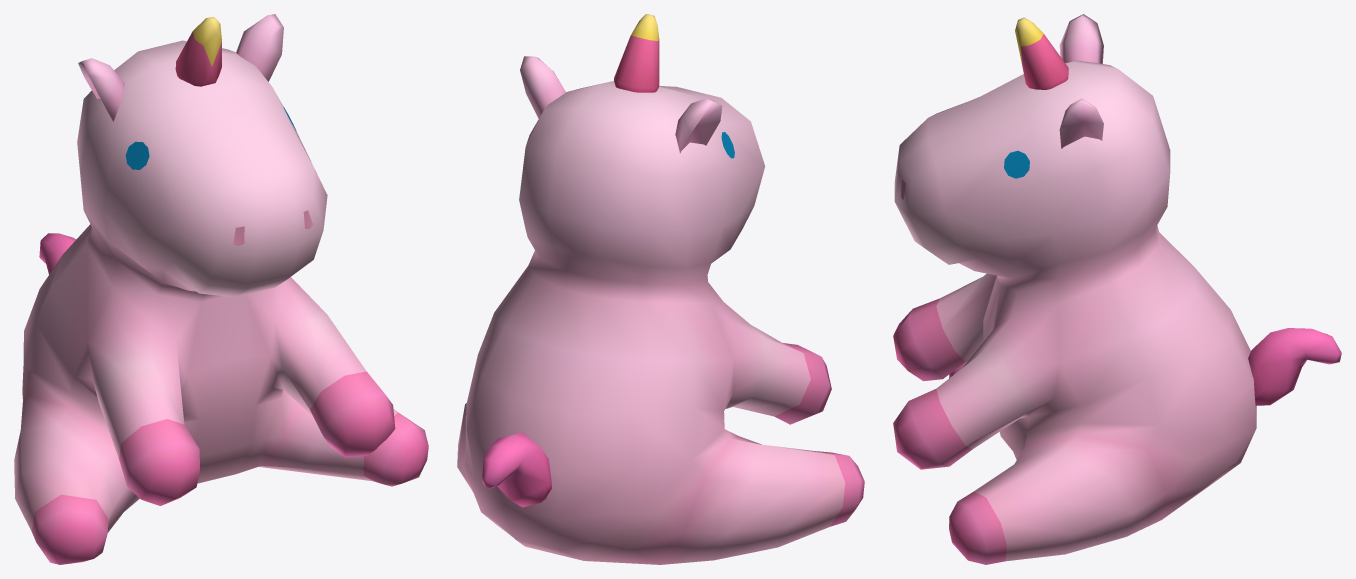
The model's file is Unicorn.fbx.
The picture shows the model from 3 angles, left to right: view 1: azimuth 30°, elevation 25°; view 2: azimuth 150°, elevation 25°; view 3: azimuth 270°, elevation 25°; orthographic projection. The views are drawn at different scales.
Parts seen in each view (by area): view 1: Unicorn; view 2: Unicorn; view 3: Unicorn.
Boxes of the visible parts, bbox=[...] form: Unicorn: bbox=[14, 14, 428, 564]; Unicorn: bbox=[457, 14, 864, 564]; Unicorn: bbox=[893, 14, 1341, 564].
Bounding box in the file's own units: 26.17 × 31.68 × 27.65.
Materials: 1 (1 with a texture image).
